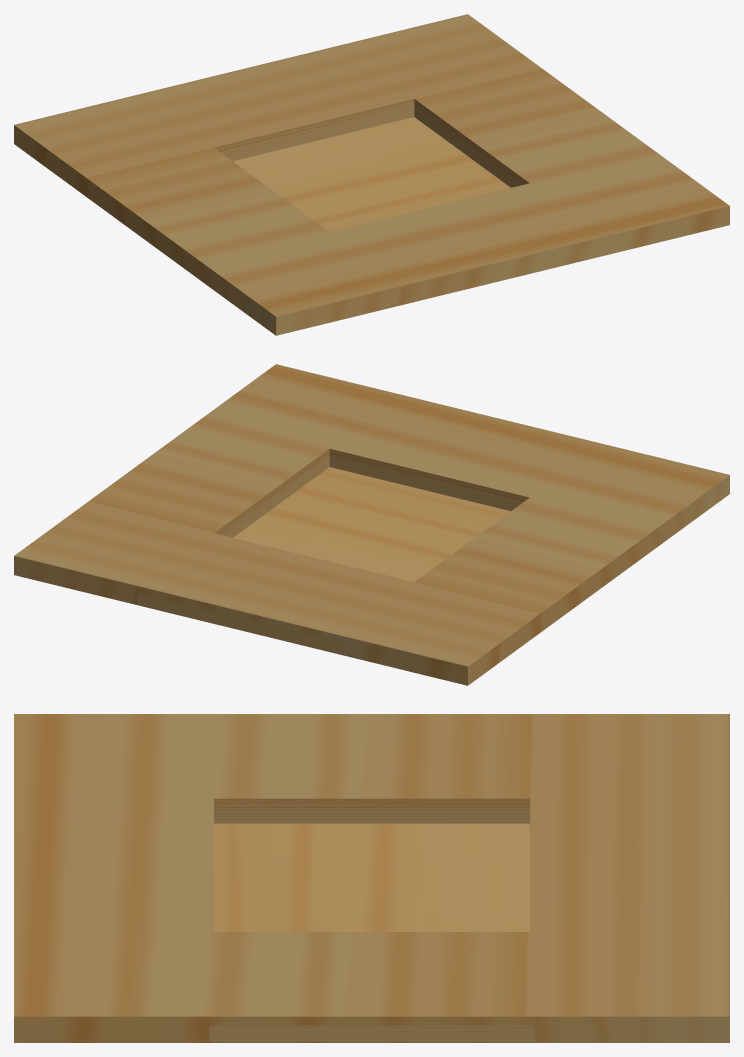
The model's file is ground.obj.
3 renders of one model, top to bottom at view 1: azimuth 30°, elevation 25°; view 2: azimuth 150°, elevation 25°; view 3: azimuth 270°, elevation 25°, orthographic. The views are drawn at different scales.
Parts seen in each view (by area): view 1: Cube; view 2: Cube; view 3: Cube.
Part boxes in pixels (x1=…): Cube: x1=14, y1=14, x2=729, y2=335; Cube: x1=14, y1=364, x2=729, y2=685; Cube: x1=14, y1=714, x2=729, y2=1042.
Bounding box in the file's own units: 76.63 × 3.09 × 76.63.
1 material, 1 textured.
